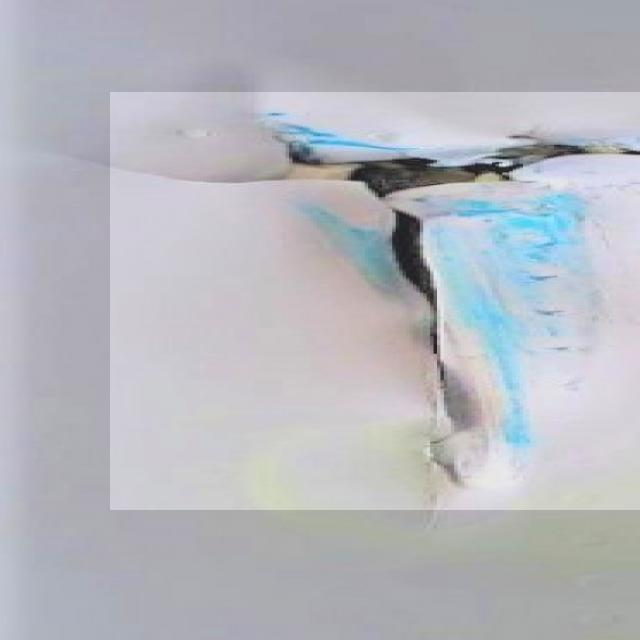crack: (111, 93, 640, 511)
